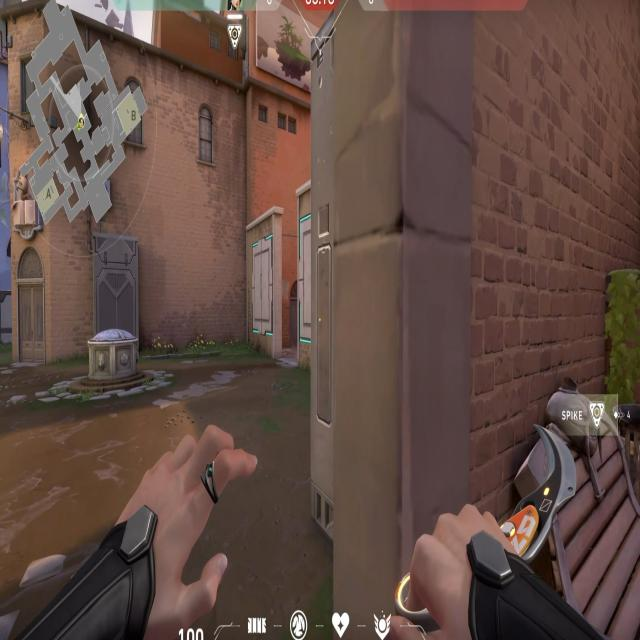Mid_Wall: (242, 205, 283, 357), (294, 192, 312, 366)
